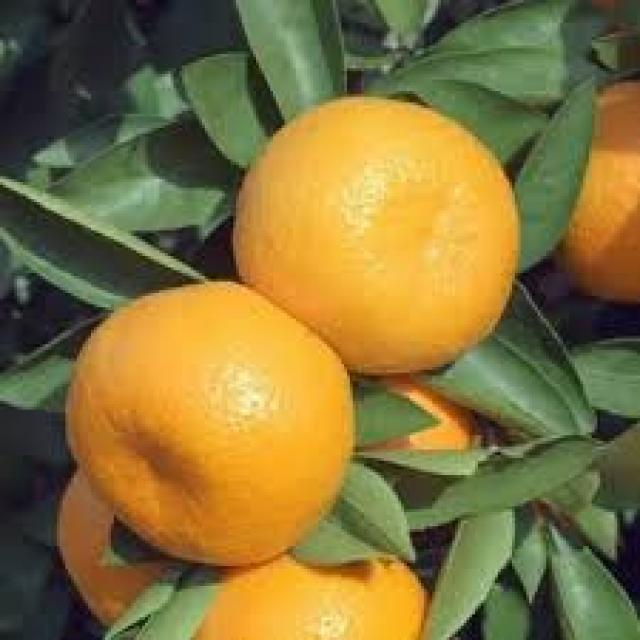Orange: (64, 276, 352, 568)
